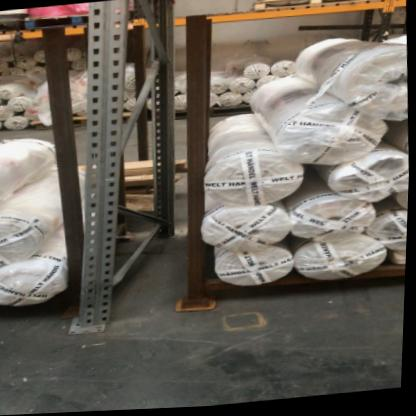vertical_damage: (61, 287, 130, 343)
